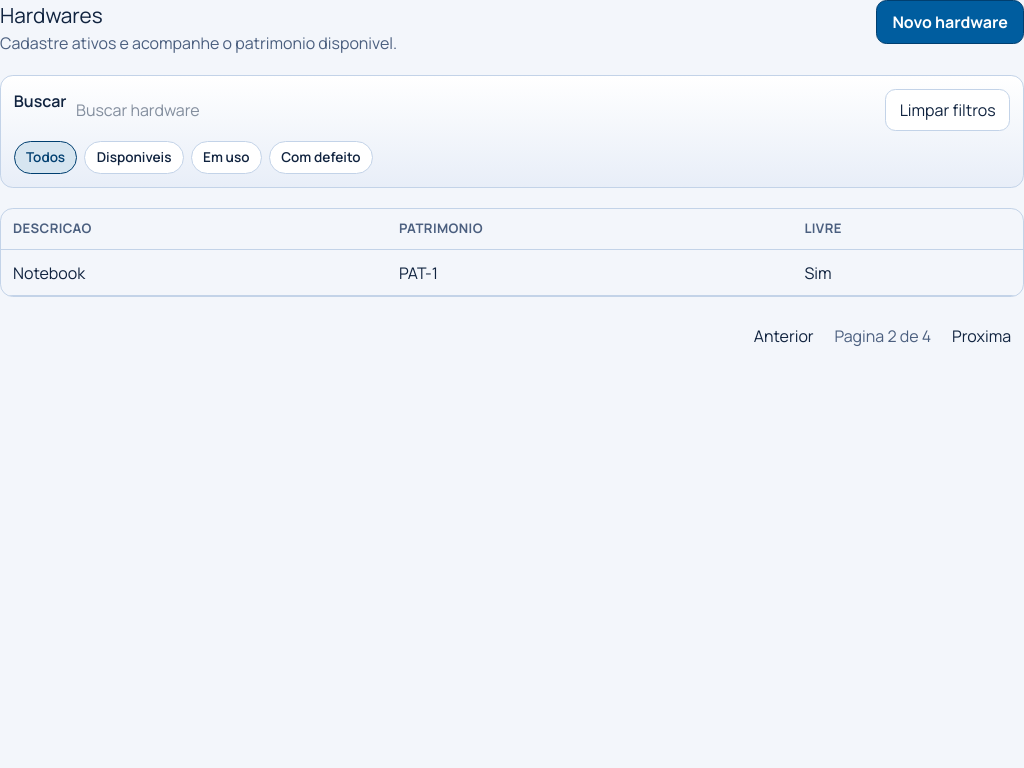
Test case: HardwaresPage listing flow › keeps modal open and preserves values on failure
This screenshot has width=1024, height=768.
Click the button "Novo hardware": point(950, 22) [876,0,1023,44]
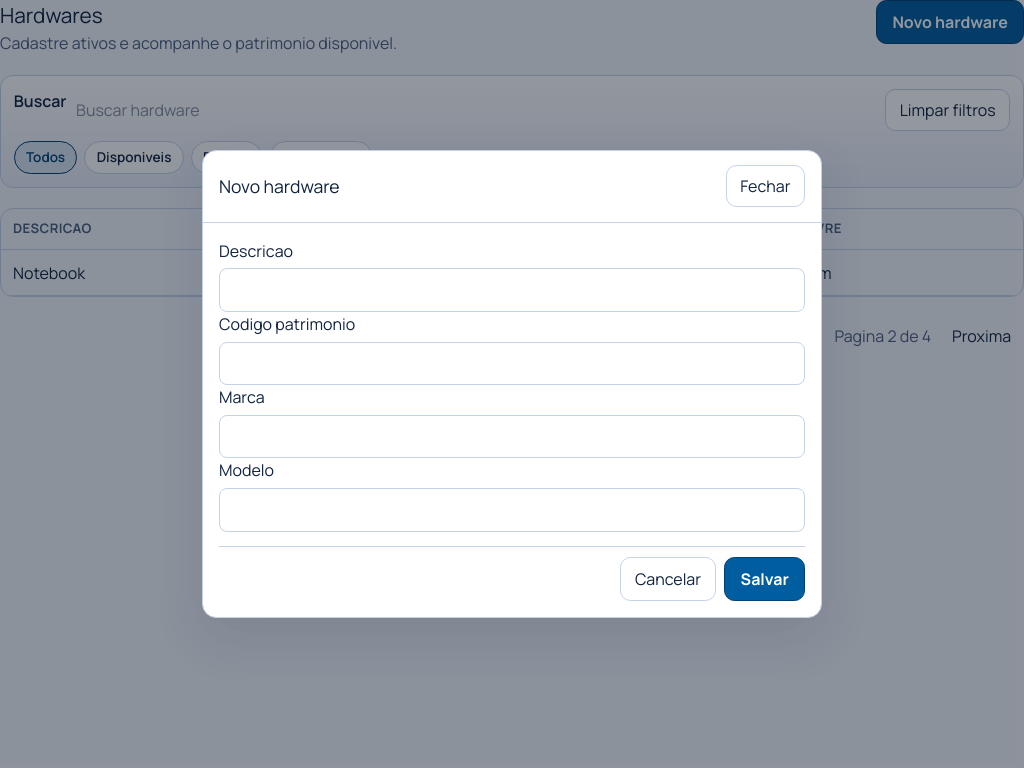
In the field labelled "Descricao": point(512, 290) [219,268,805,312], type "Teclado"
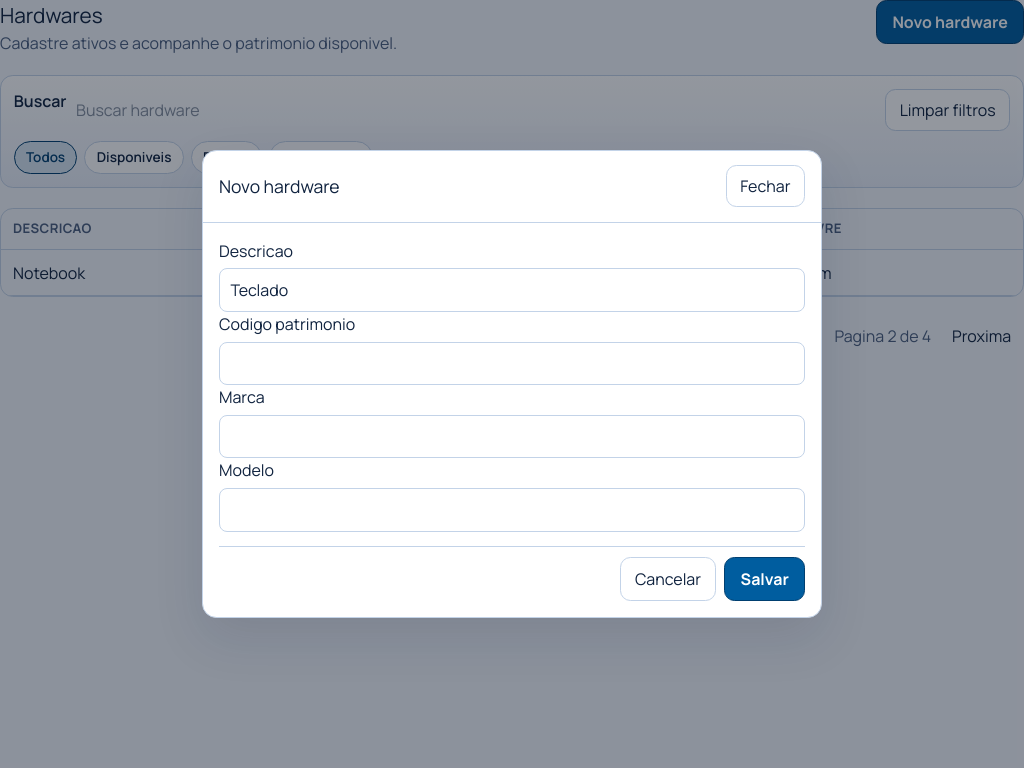
In the field labelled "Marca": point(512, 437) [219,415,805,458], type "Logitech"
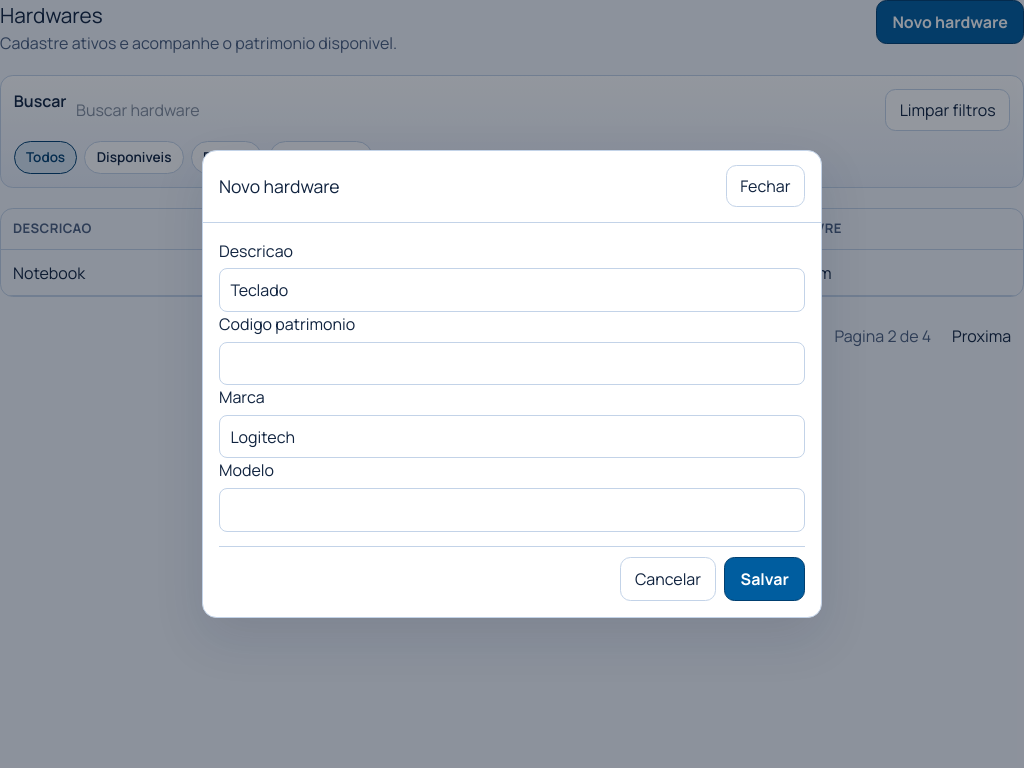
In the field labelled "Modelo": point(512, 510) [219,488,805,532], type "K380"
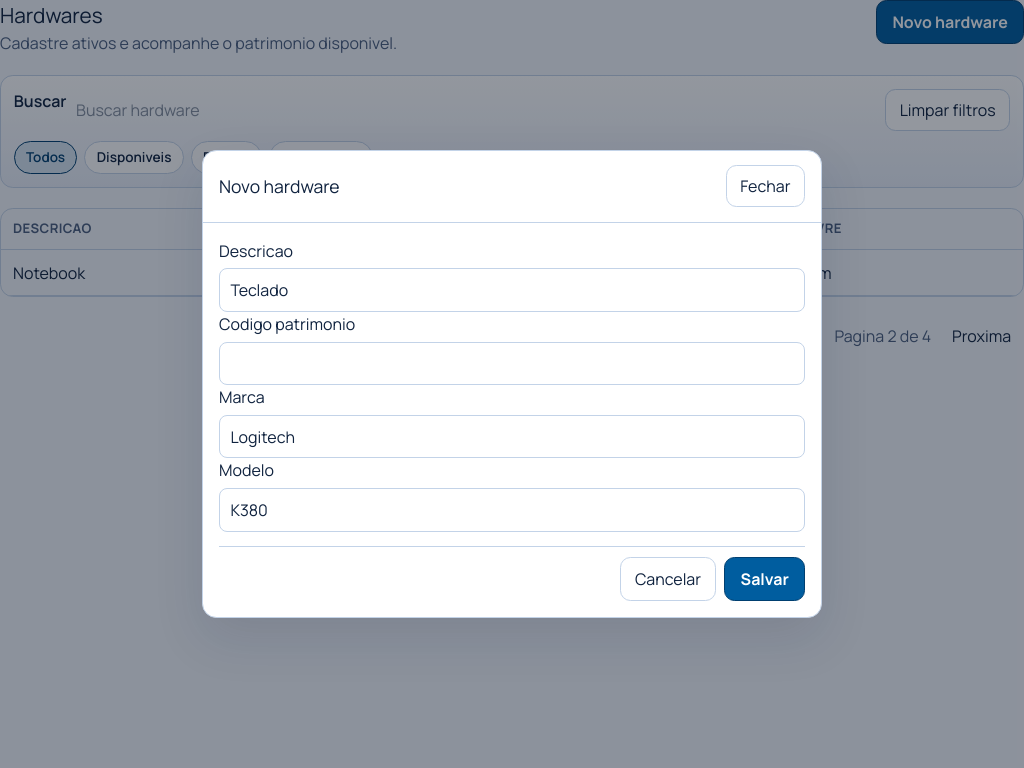
In the field labelled "Codigo patrimonio": point(512, 363) [219,342,805,385], type "PAT-3"
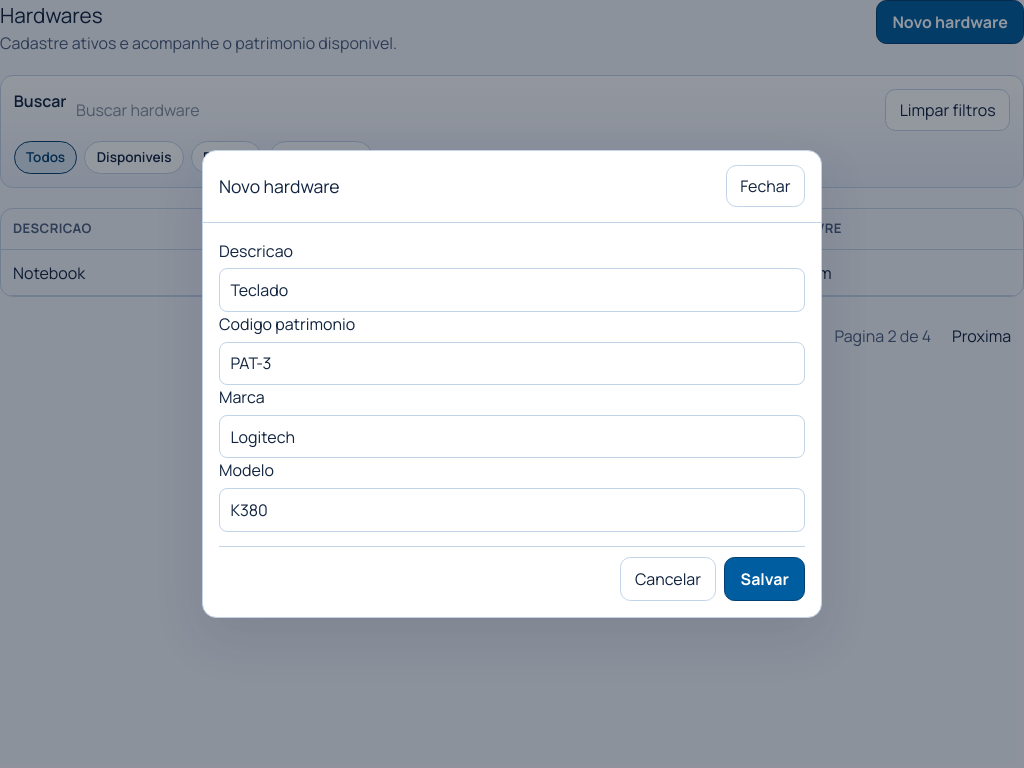
Click the button "Salvar": point(765, 579) [724,557,805,601]
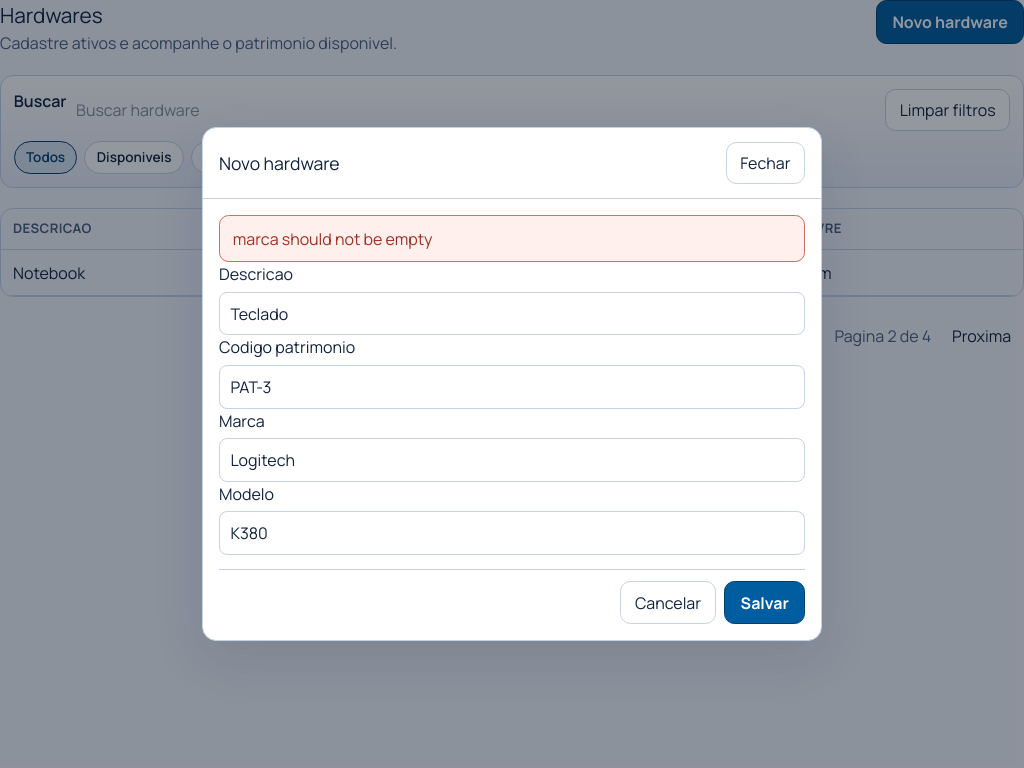
Check: the dialog "Novo hardware" is shown, box [202,127,822,641]
Check: the text "marca should not be empty" is shown, box [219,215,805,262]
